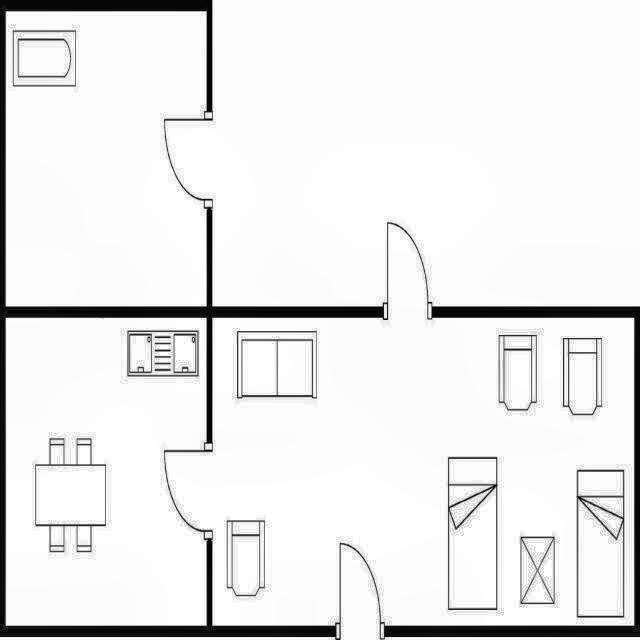room: (212, 318, 634, 626), (6, 318, 207, 626), (6, 11, 207, 306)
